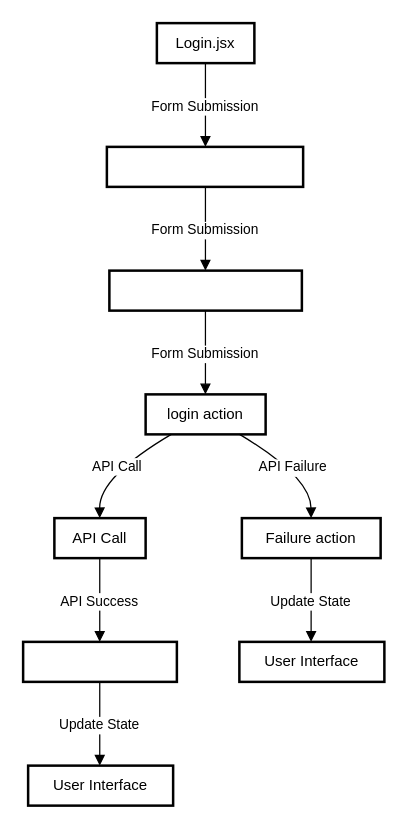
Image size: 406x828. Some labels were removed from this diagram. The centre of each missing label's shape, as x and y in pixels:
"setPassword action" belongs at point (205, 290).
"setUsername action" belongs at point (204, 166).
"Success action" belongs at point (99, 661).
